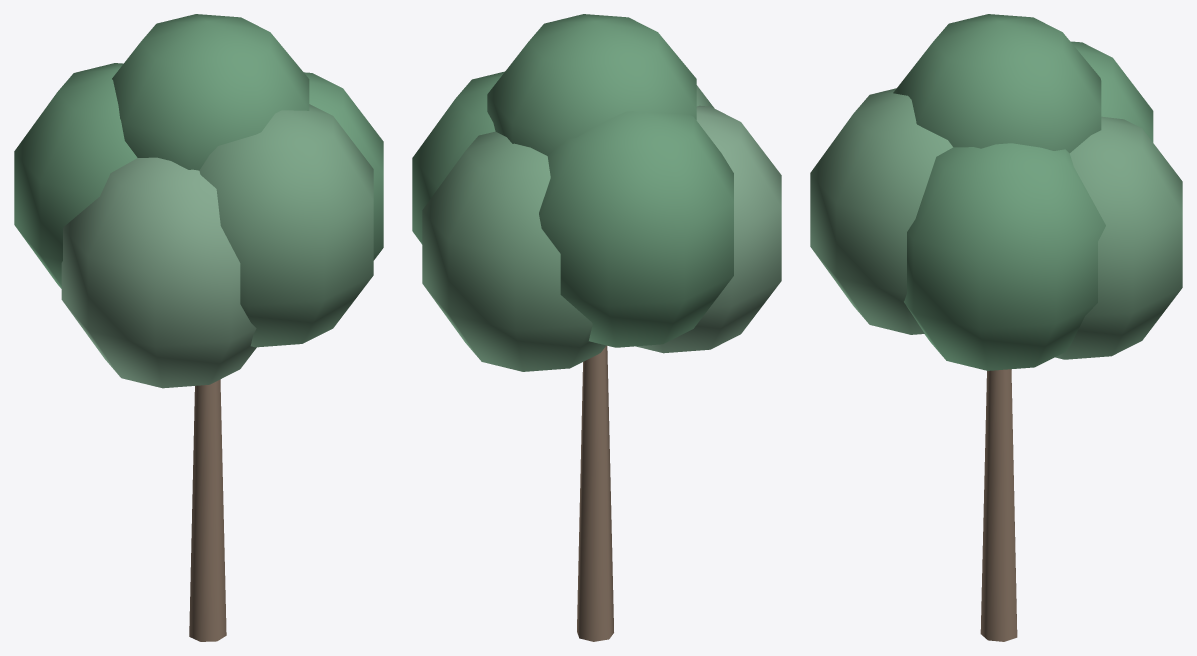
3 views of the same model, side by side, from view 1: azimuth 30°, elevation 25°; view 2: azimuth 150°, elevation 25°; view 3: azimuth 270°, elevation 25° (orthographic).
Visible parts, largest first — view 1: Visual; view 2: Visual; view 3: Visual.
Boxes of the visible parts, left/top/right/bottom form: Visual: left=14, top=14, right=383, bottom=641; Visual: left=412, top=14, right=781, bottom=641; Visual: left=810, top=14, right=1182, bottom=641.
Size of the model in its own units: 9.49 by 17.4 by 9.59.
